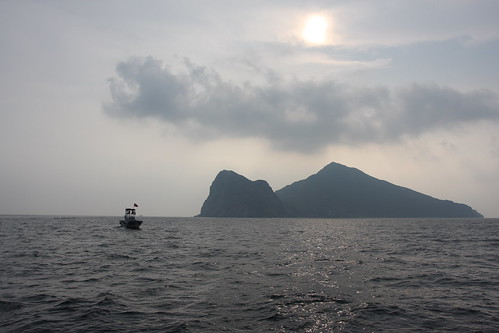turtleIslandLeft: (200, 161, 482, 218)
